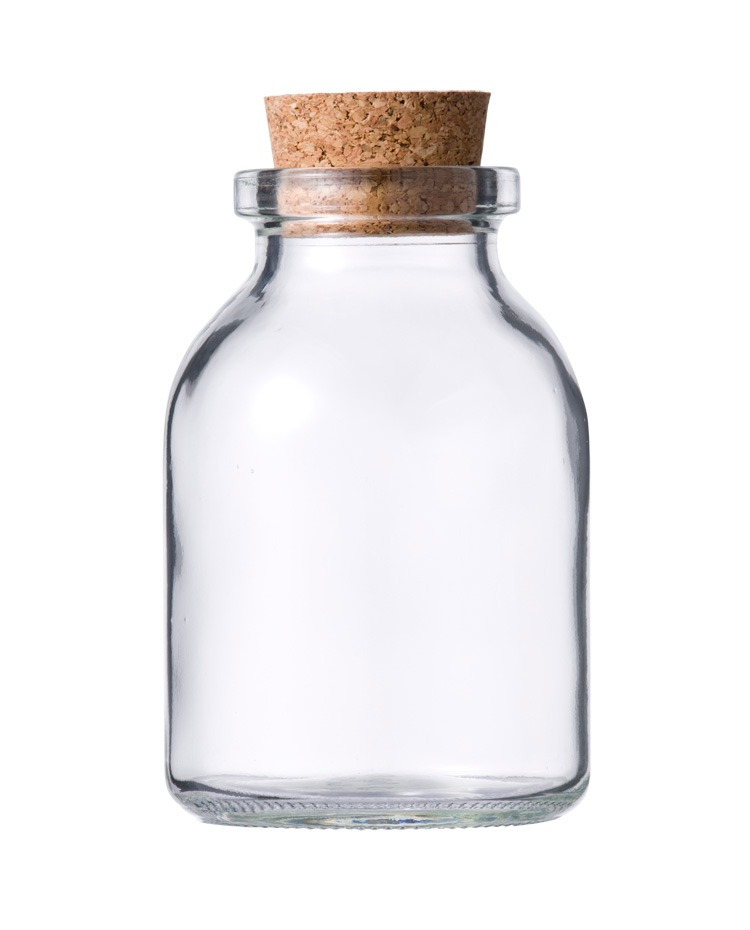container: (145, 81, 597, 837)
